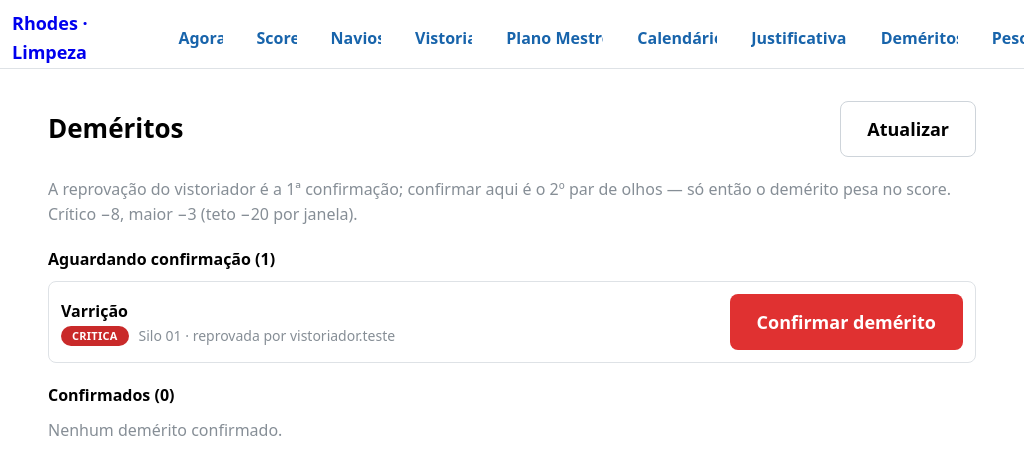
Test: fila de deméritos (gestor) › lista pendentes com severidade e confirmar dispara POST
This screenshot has width=1036, height=453.
Expected: the text "Varrição" is shown, [61,300,128,322]
Expected: the text "CRITICA" is shown, [72,327,118,345]
Click the button "Confirmar demérito" at (846, 322), box [730,294,963,350]
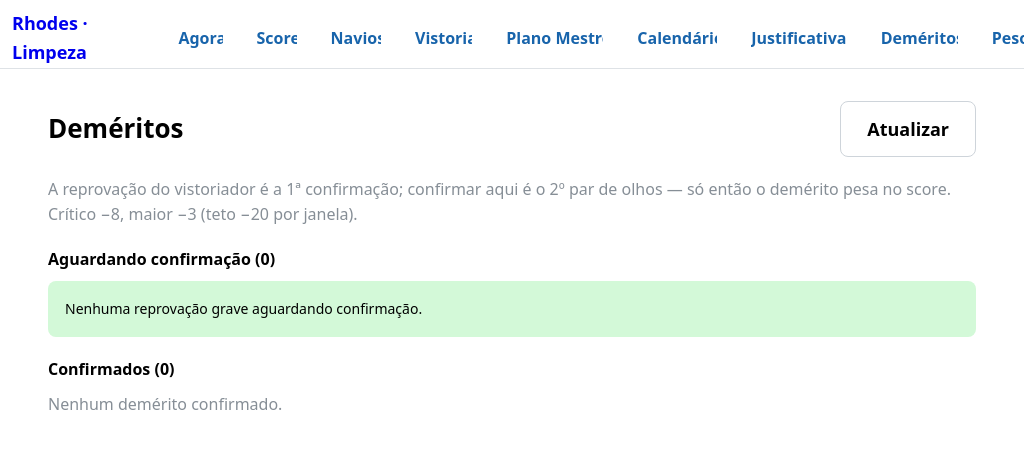
Expected: the text "Nenhuma reprovação grave aguardando confirmação." is shown, [65,299,422,318]
